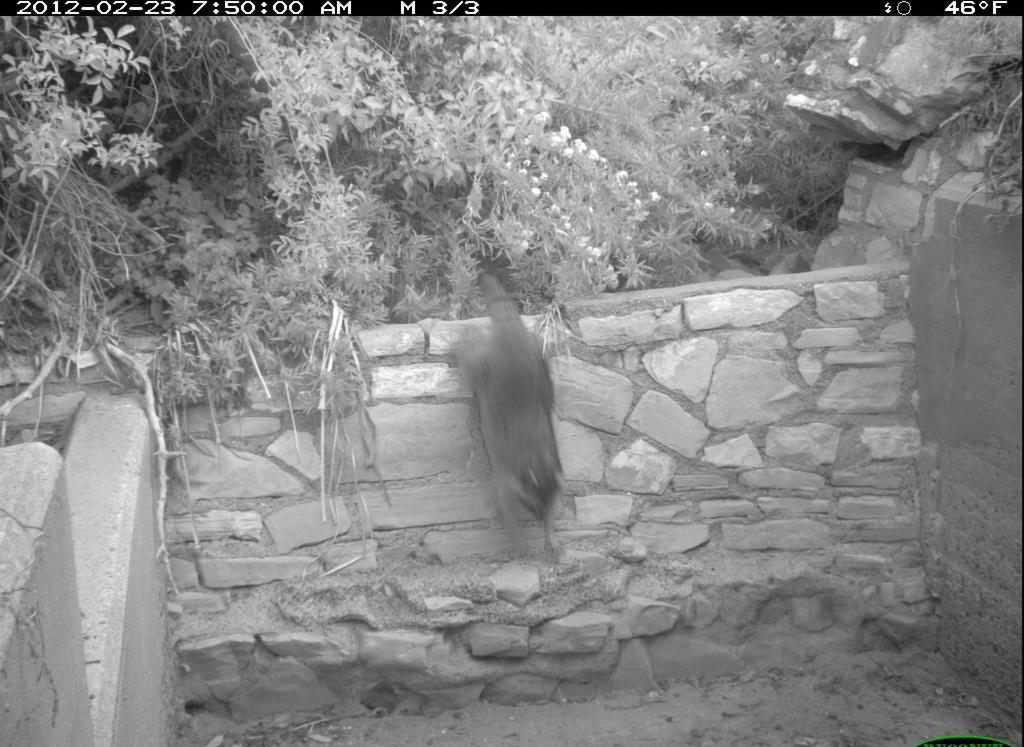raccoon: (442, 262, 588, 565)
